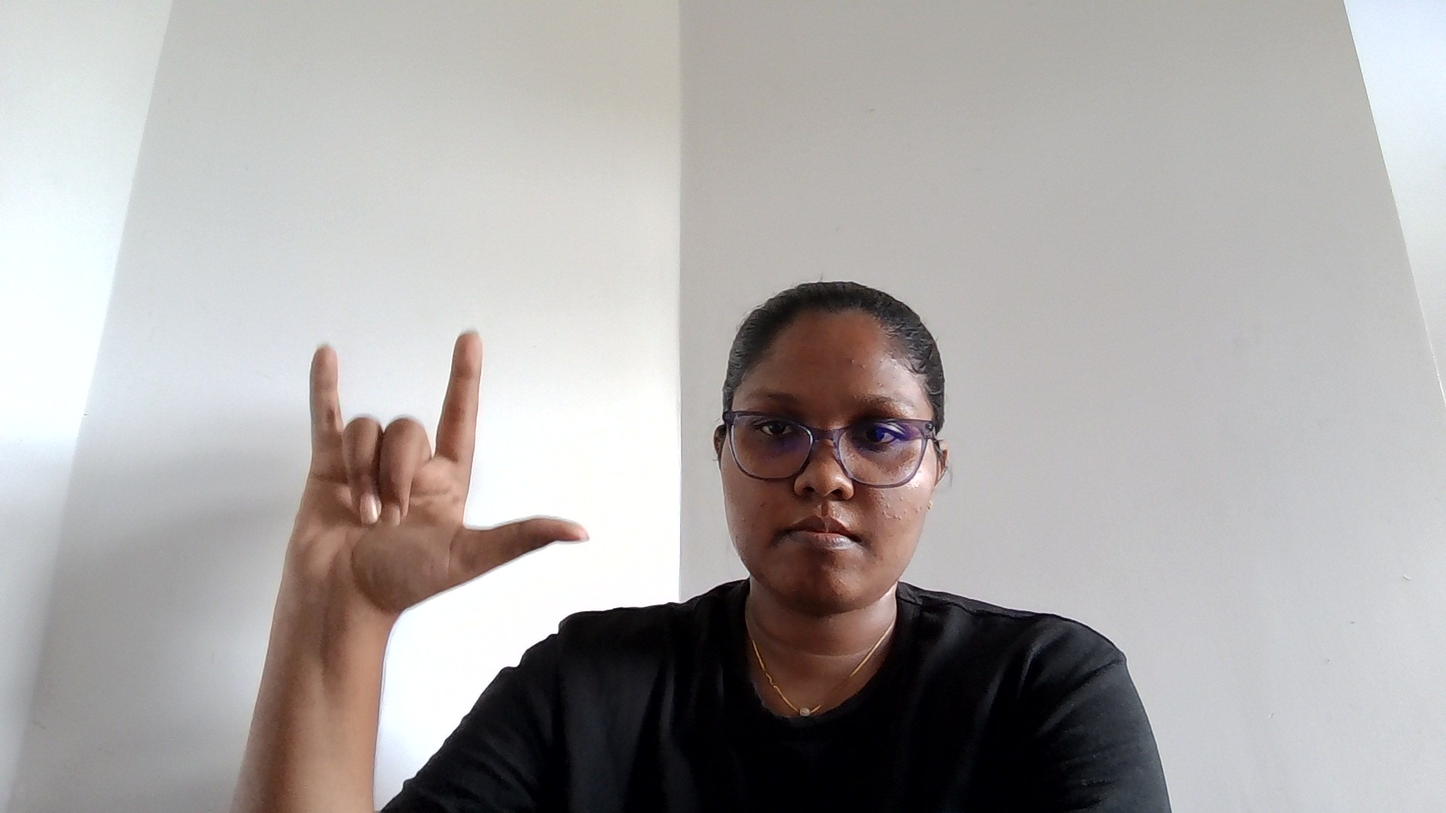I Love You: (250, 178, 622, 729)
